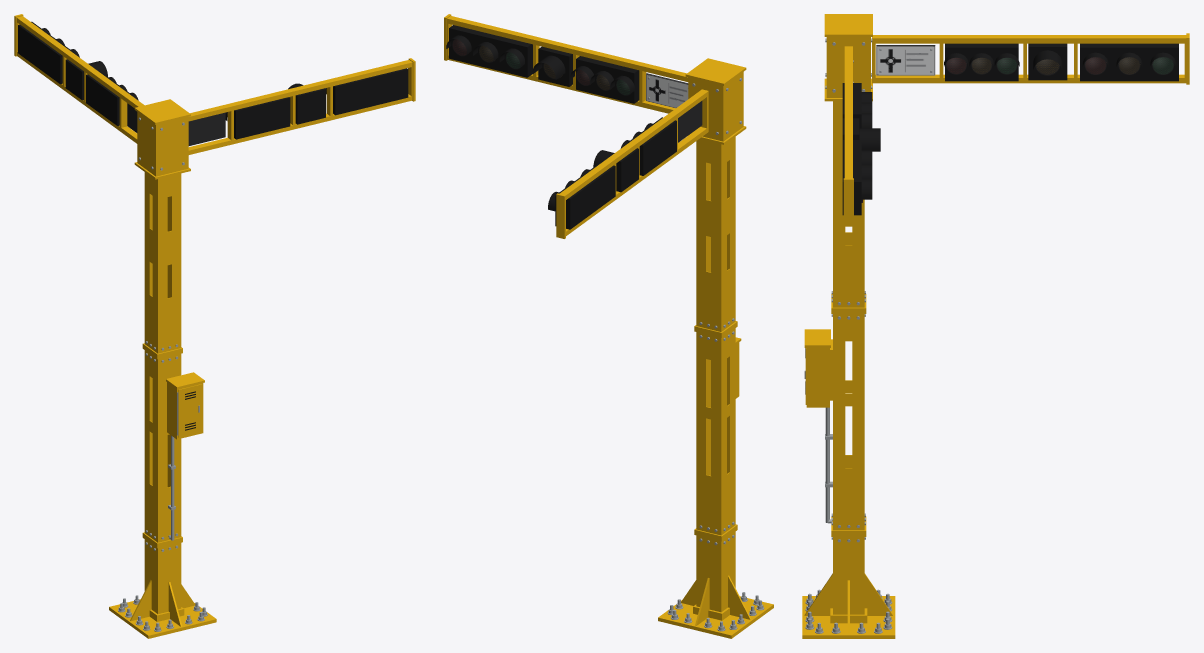
File: semaforo_lod0.glb
3 renders of one model, left to right at view 1: azimuth 30°, elevation 25°; view 2: azimuth 150°, elevation 25°; view 3: azimuth 270°, elevation 25°, orthographic. The views are drawn at different scales.
Visible parts, largest first — view 1: MAT_Paleta, MAT_Sign_Panel; view 2: MAT_Paleta, MAT_Sign_Panel, Semaforos_Lentes; view 3: MAT_Paleta, Semaforos_Lentes, MAT_Sign_Panel.
Boxes of the visible parts, box(x1,y1,x2,y2) form: MAT_Paleta: box(14, 14, 415, 638); MAT_Sign_Panel: box(127, 103, 225, 145); MAT_Paleta: box(444, 14, 773, 638); MAT_Sign_Panel: box(646, 73, 702, 142); Semaforos_Lentes: box(452, 39, 631, 95); MAT_Paleta: box(802, 14, 1189, 638); Semaforos_Lentes: box(861, 57, 1174, 202); MAT_Sign_Panel: box(876, 45, 935, 75).
Bounding box in the file's own units: 3.67 × 6.22 × 3.67.
5 materials, 5 textured.
